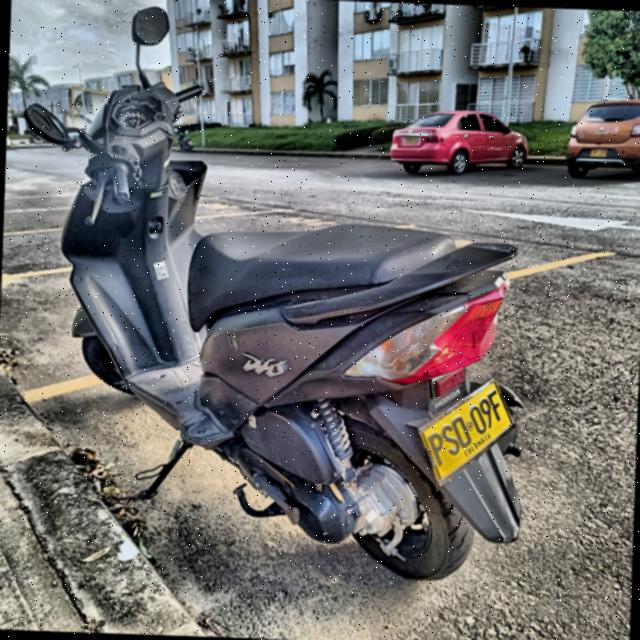plate: (422, 382, 512, 479)
